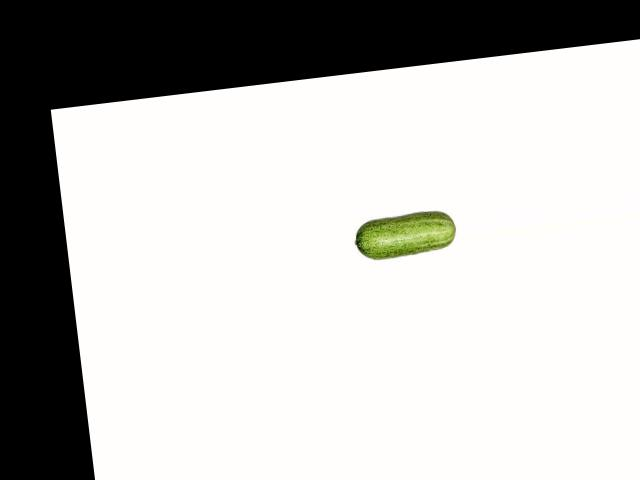cucumber: (351, 208, 457, 261)
